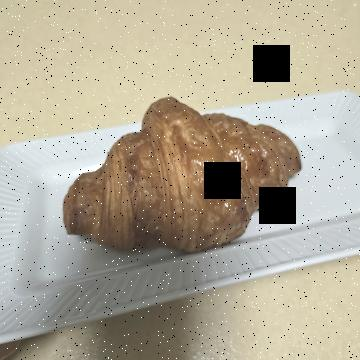croissant: (96, 44, 283, 309)
